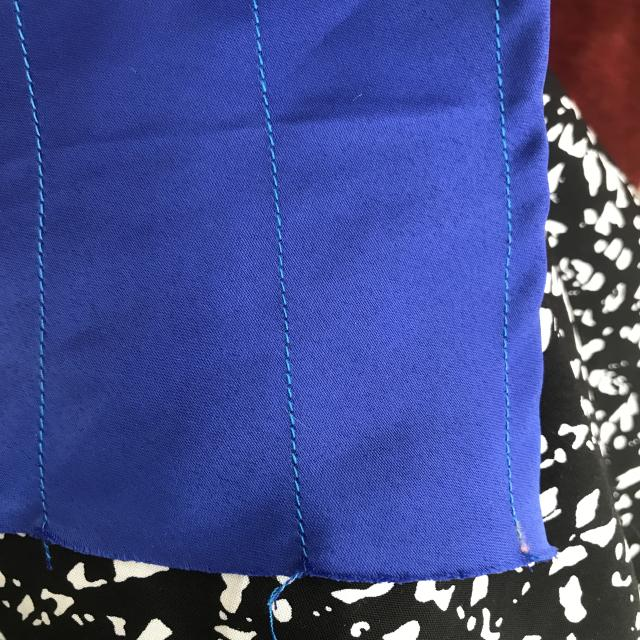good: (265, 230, 312, 444), (11, 31, 69, 192), (248, 16, 290, 210), (27, 214, 54, 482), (487, 18, 522, 199), (494, 222, 518, 452)
